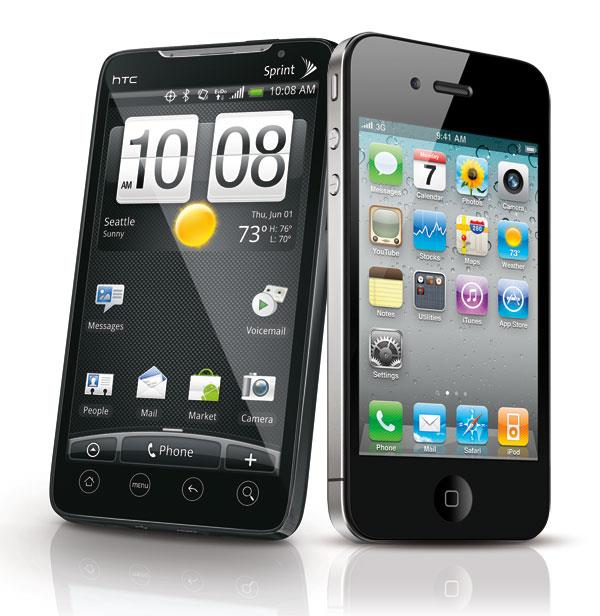iphone: (330, 28, 561, 545)
